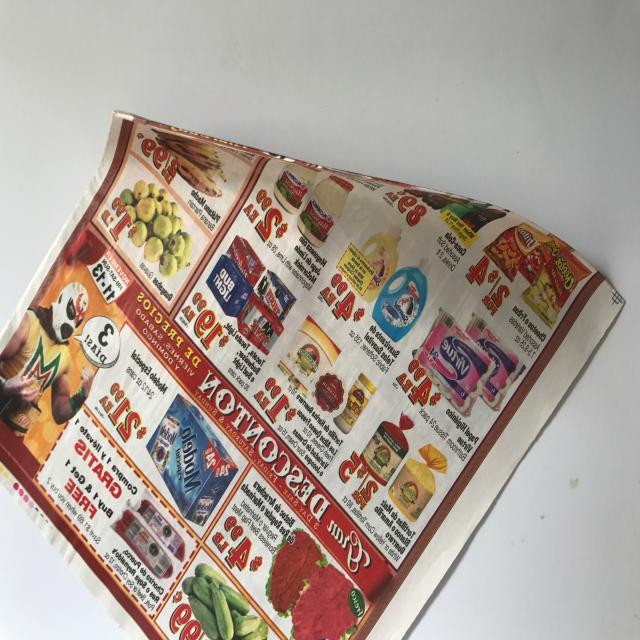paper: (0, 92, 640, 640)
